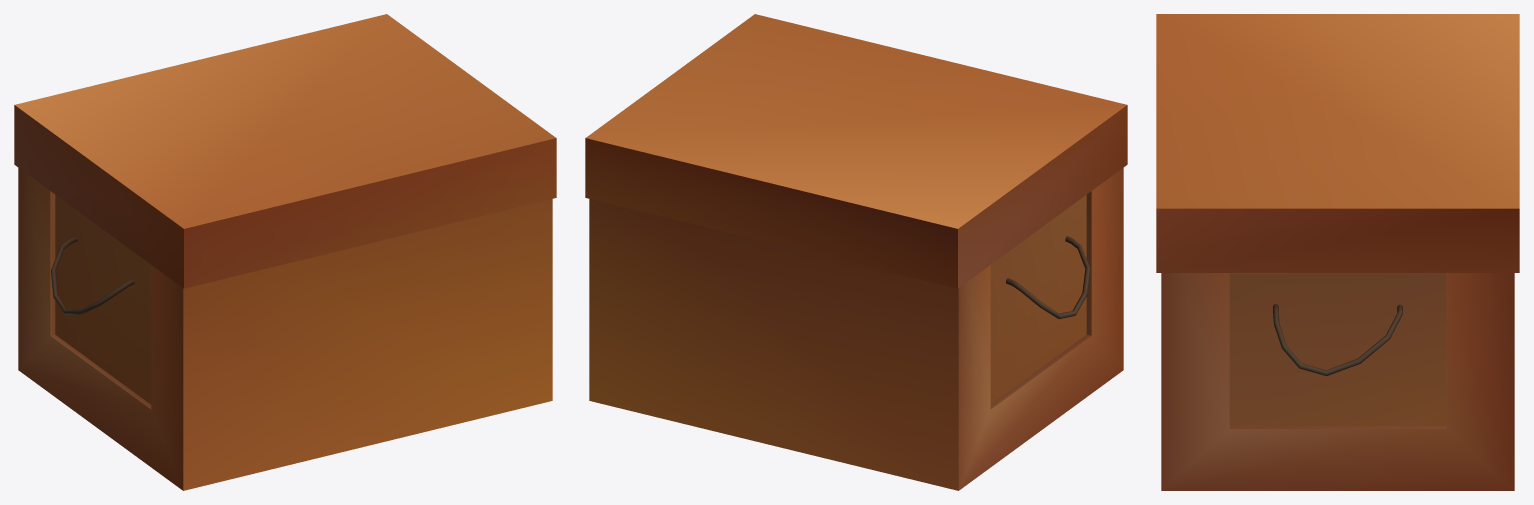
File: human-containers-storage-box_v1.glb
3 renders of one model, left to right at view 1: azimuth 30°, elevation 25°; view 2: azimuth 150°, elevation 25°; view 3: azimuth 270°, elevation 25°, orthographic. The views are drawn at different scales.
Parts seen in each view (by area): view 1: Storage Box_v1; view 2: Storage Box_v1; view 3: Storage Box_v1.
Part boxes in pixels (bbox=[...]): Storage Box_v1: bbox=[14, 14, 556, 490]; Storage Box_v1: bbox=[585, 14, 1127, 490]; Storage Box_v1: bbox=[1156, 14, 1519, 490].
Bounding box in the file's own units: 0.5 × 0.2867 × 0.3336.
